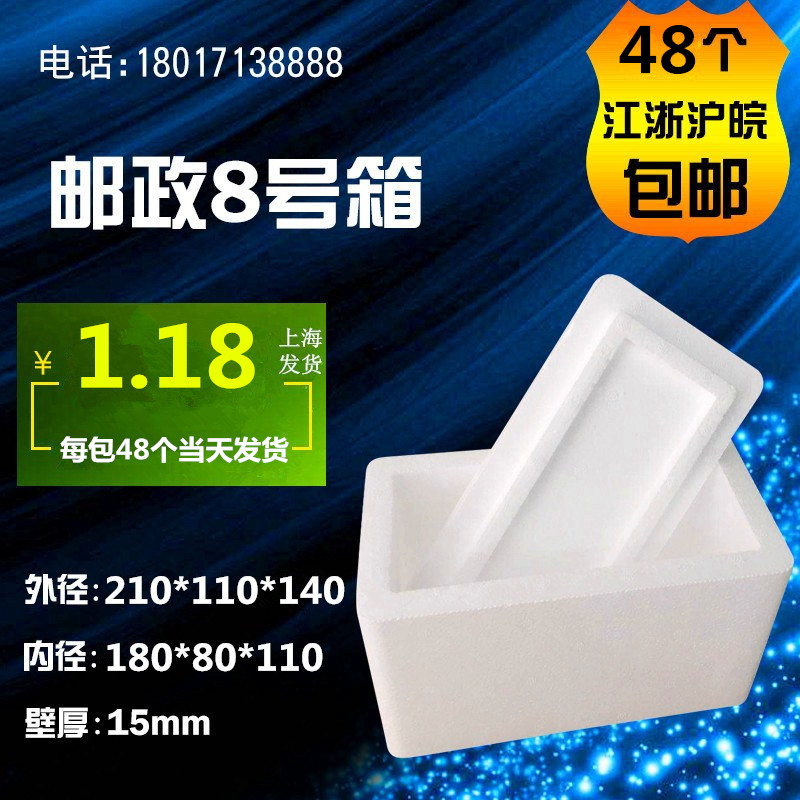泡沫箱: (357, 276, 791, 756)
